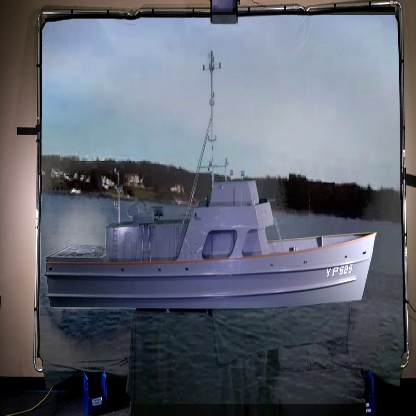YP689: (44, 49, 377, 317)
